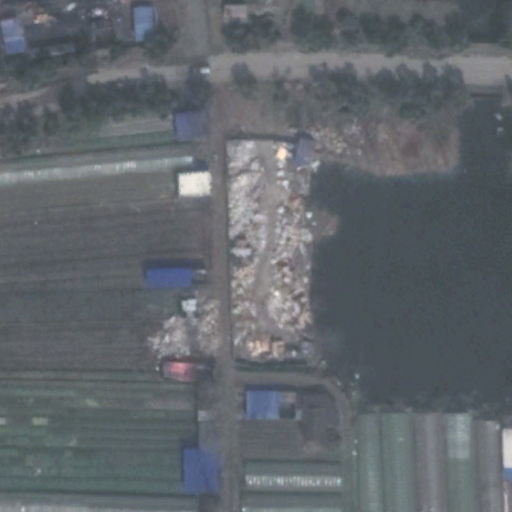msw: (228, 138, 311, 364), (147, 294, 218, 357)
